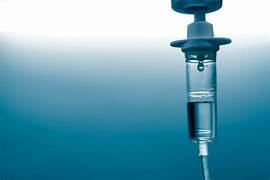Iv_Bottle: (186, 52, 216, 141)
Syringe: (171, 0, 230, 179)
